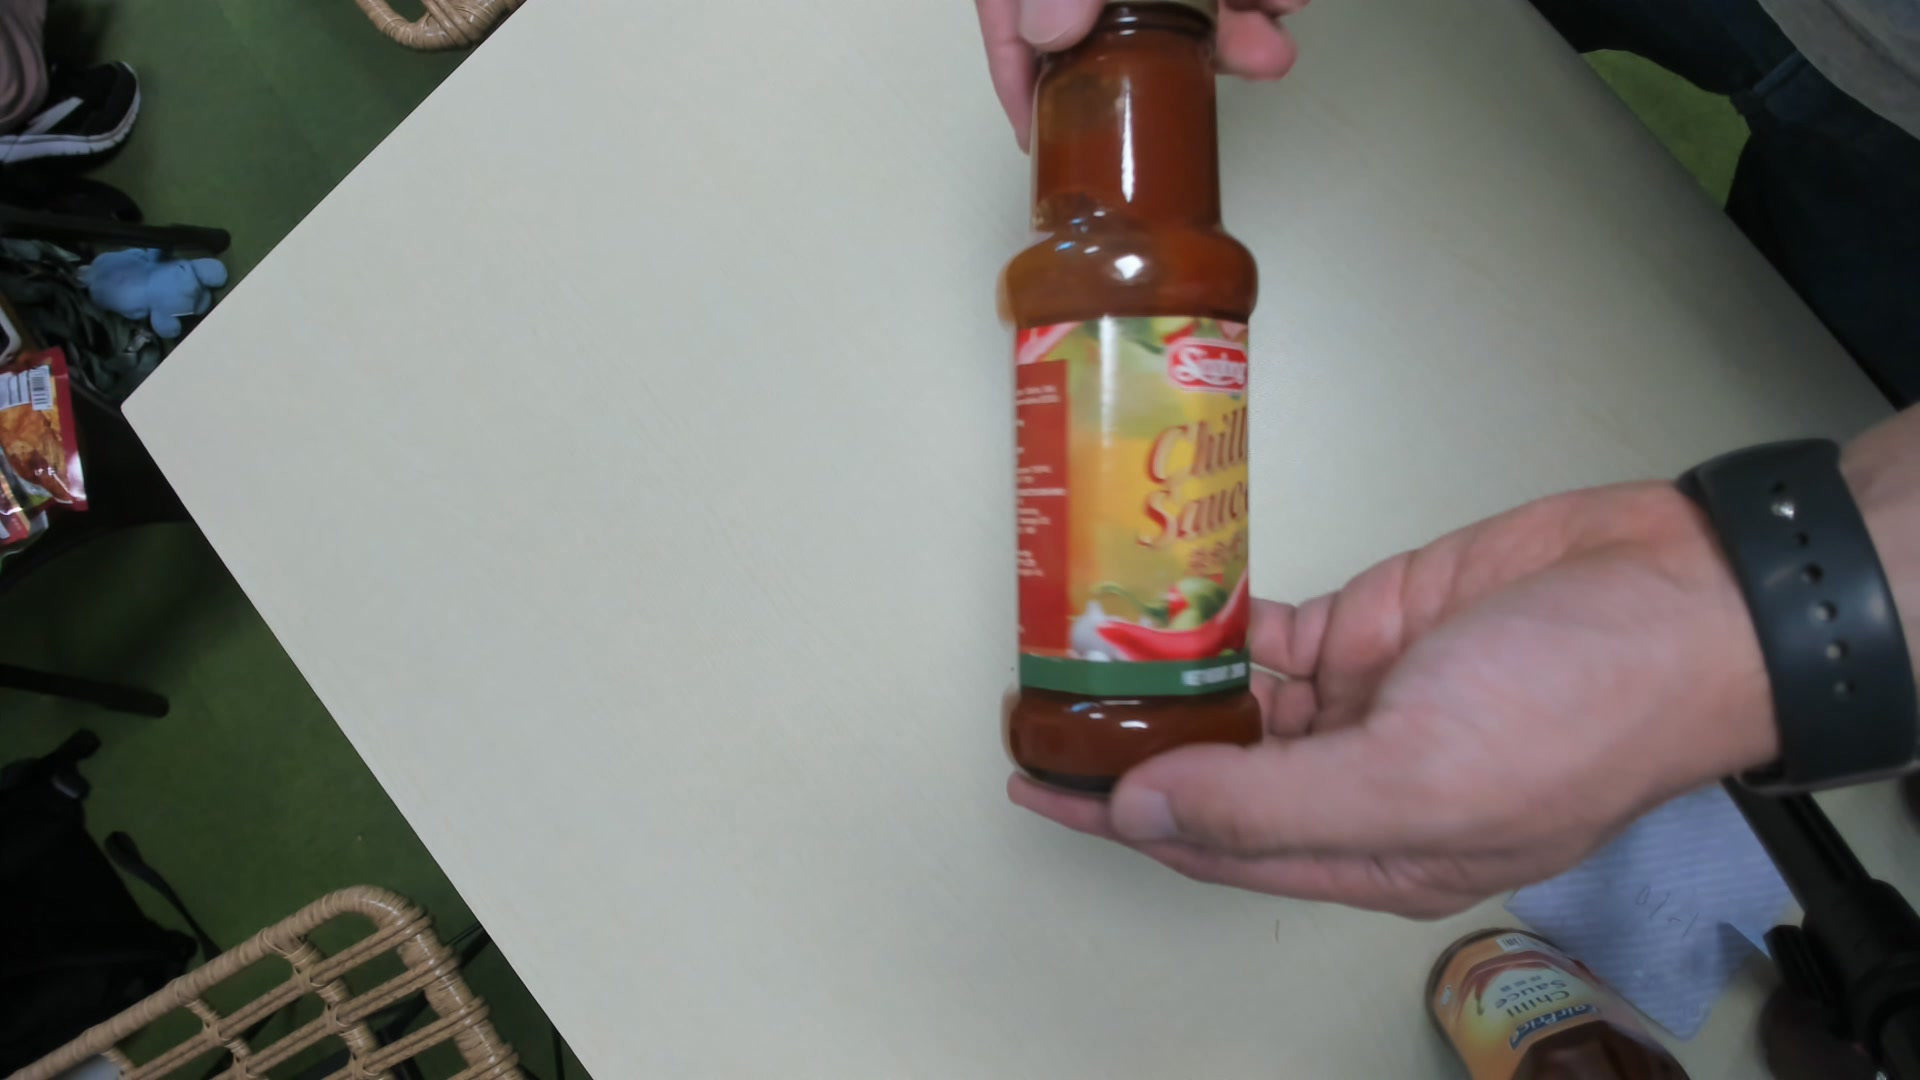KetchupChillSauce_200-299g_Halal_NonHealthy: (992, 5, 1266, 804)
